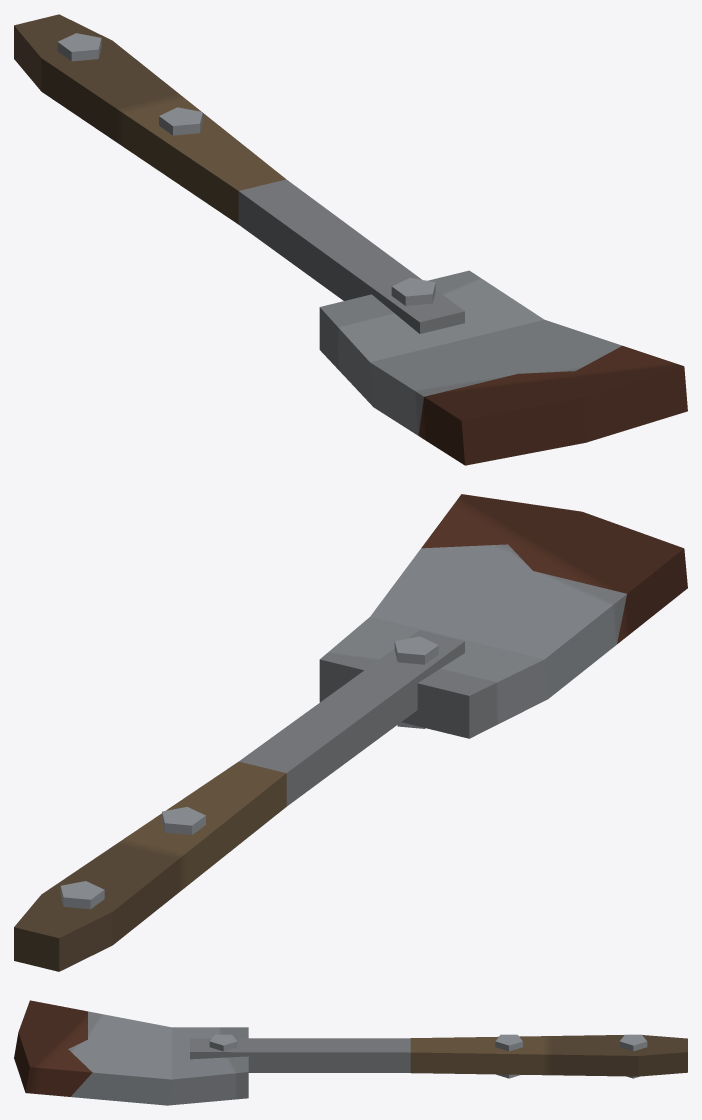
The model's file is SM_Prop_Spatula_01.fbx.
3 renders of one model, top to bottom at view 1: azimuth 30°, elevation 25°; view 2: azimuth 150°, elevation 25°; view 3: azimuth 270°, elevation 25°, orthographic. The views are drawn at different scales.
Parts seen in each view (by area): view 1: SM_Prop_Spatula_01; view 2: SM_Prop_Spatula_01; view 3: SM_Prop_Spatula_01.
Boxes of the visible parts, <box> form: SM_Prop_Spatula_01: <box>14,14,687,465</box>; SM_Prop_Spatula_01: <box>14,494,687,971</box>; SM_Prop_Spatula_01: <box>14,1000,687,1105</box>.
Size of the model in its own units: 16.33 by 6.01 by 69.73.
